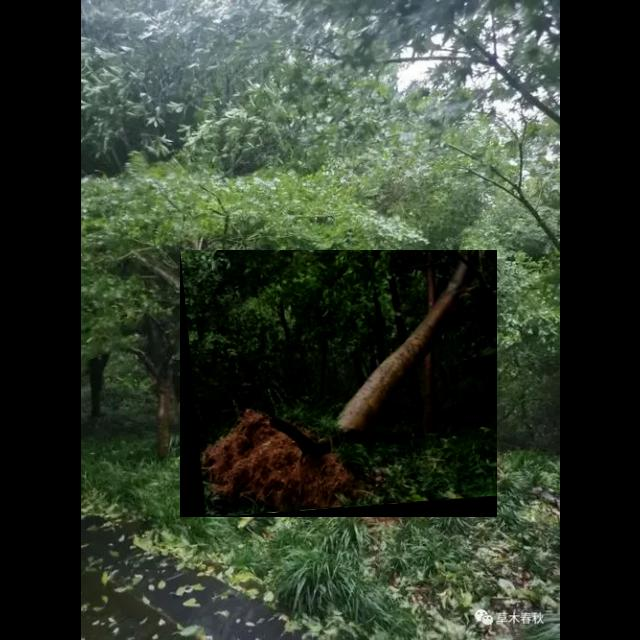Fallen Tree: (180, 250, 498, 518)
